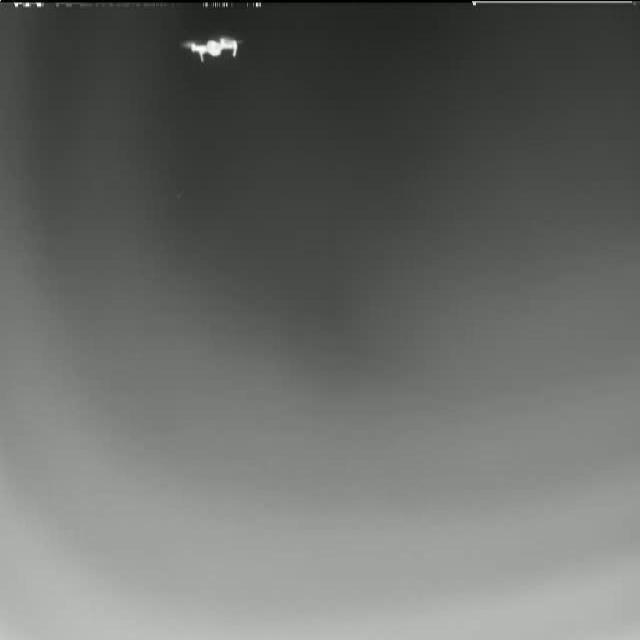drone: (176, 34, 246, 64)
